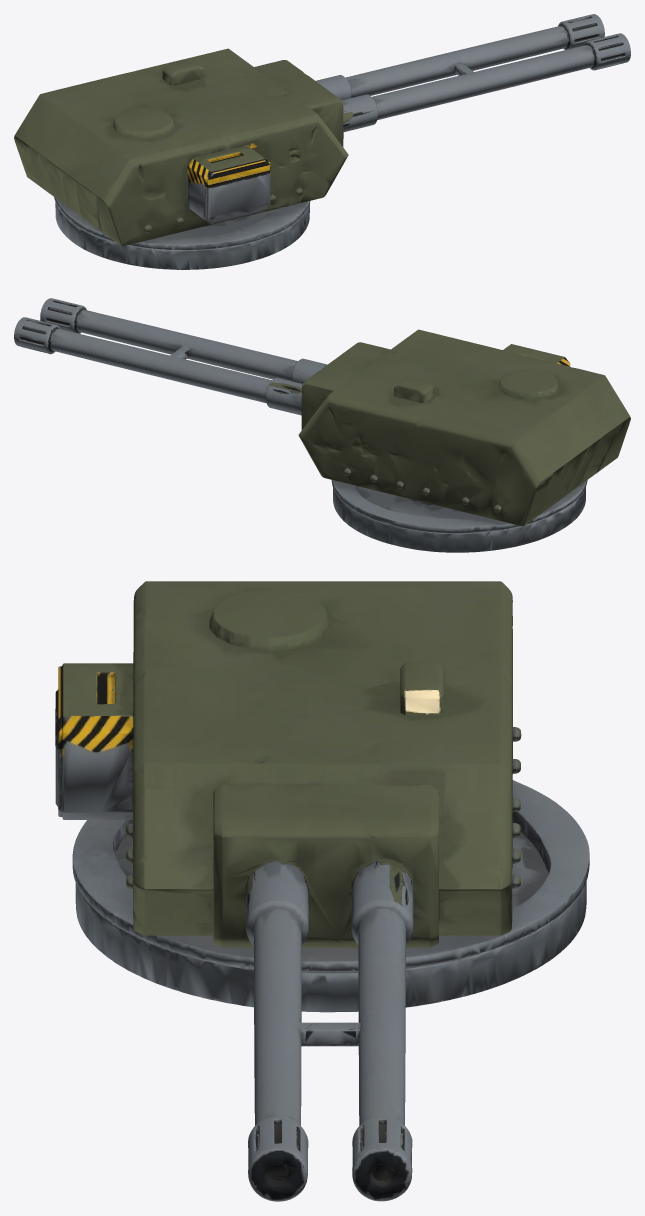
The model's file is weapon-twin-0-full.glb.
3 views of the same model, one above another, from view 1: azimuth 30°, elevation 25°; view 2: azimuth 150°, elevation 25°; view 3: azimuth 270°, elevation 25° (orthographic). The views are drawn at different scales.
Visible parts, largest first — view 1: weapon-twin-0-full; view 2: weapon-twin-0-full; view 3: weapon-twin-0-full.
Boxes of the visible parts, x1,y1,x2,y2 form: weapon-twin-0-full: [14, 14, 630, 269]; weapon-twin-0-full: [14, 298, 630, 552]; weapon-twin-0-full: [55, 581, 589, 1201].
Bounding box in the file's own units: 2.25 × 0.5012 × 0.9456.
1 material, 1 textured.
